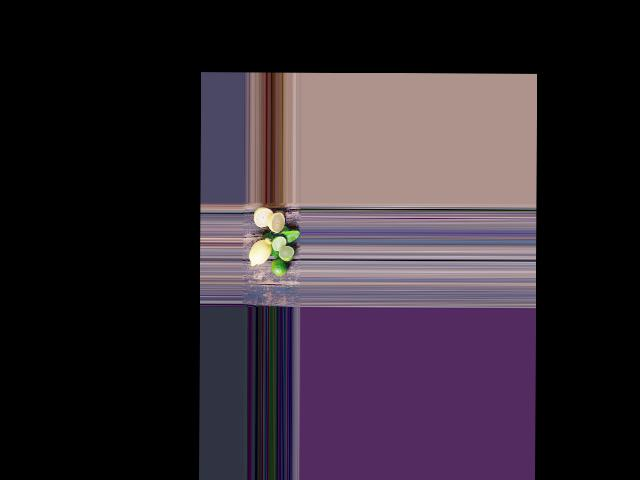lemon: (248, 236, 274, 267)
